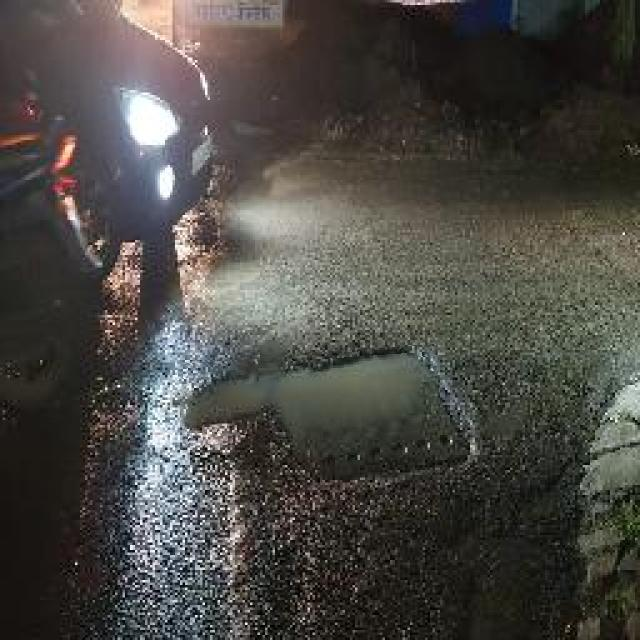puddle: (180, 350, 441, 443)
